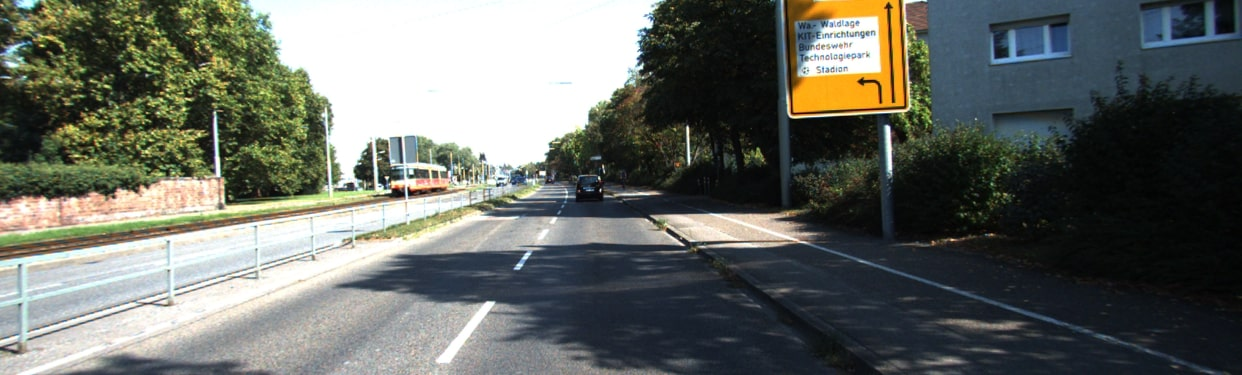Tram: (389, 164, 455, 190)
car: (572, 174, 605, 205), (496, 175, 510, 187), (548, 178, 557, 184)
